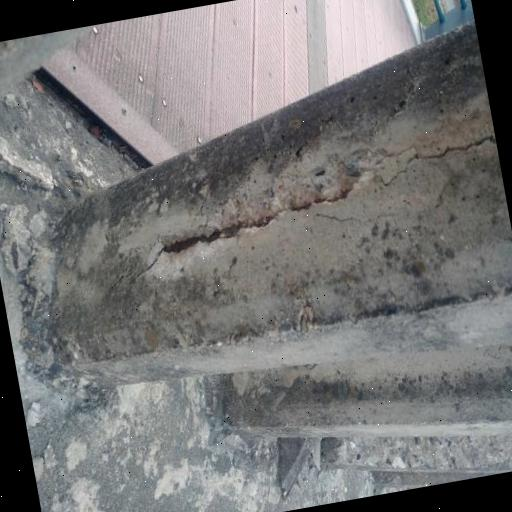exposed_rebar: (162, 214, 278, 254)
